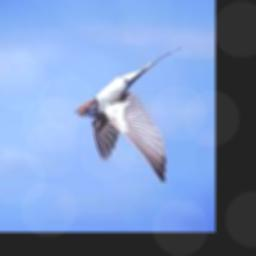Swallow: (75, 48, 182, 184)
